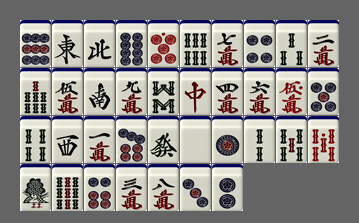0m: (276, 68, 307, 115)
0p: (148, 20, 179, 67)
0s: (308, 116, 339, 163)
1m: (84, 116, 115, 163)
1p: (212, 116, 243, 163)
1s: (20, 164, 51, 211)
1z: (52, 20, 83, 67)
2m: (308, 20, 339, 67)
2p: (212, 164, 243, 211)
2s: (244, 116, 275, 163)
2z: (84, 68, 115, 115)
3m: (116, 164, 147, 211)
3p: (180, 164, 211, 211)
3s: (276, 20, 307, 67)
3z: (52, 116, 83, 163)
4m: (212, 68, 243, 115)
4p: (244, 20, 275, 67)
4s: (20, 116, 51, 163)
4z: (84, 20, 115, 67)
5m: (52, 68, 83, 115)
5p: (308, 68, 339, 115)
5s: (276, 116, 307, 163)
5z: (180, 116, 211, 163)
6m: (244, 68, 275, 115)
6p: (84, 164, 115, 211)
6s: (180, 20, 211, 67)
6z: (148, 116, 179, 163)
7m: (212, 20, 243, 67)
7p: (116, 116, 147, 163)
7s: (20, 68, 51, 115)
7z: (180, 68, 211, 115)
8m: (148, 164, 179, 211)
8p: (116, 20, 147, 67)
8s: (148, 68, 179, 115)
9m: (116, 68, 147, 115)
9p: (20, 20, 51, 67)
9s: (52, 164, 83, 211)
